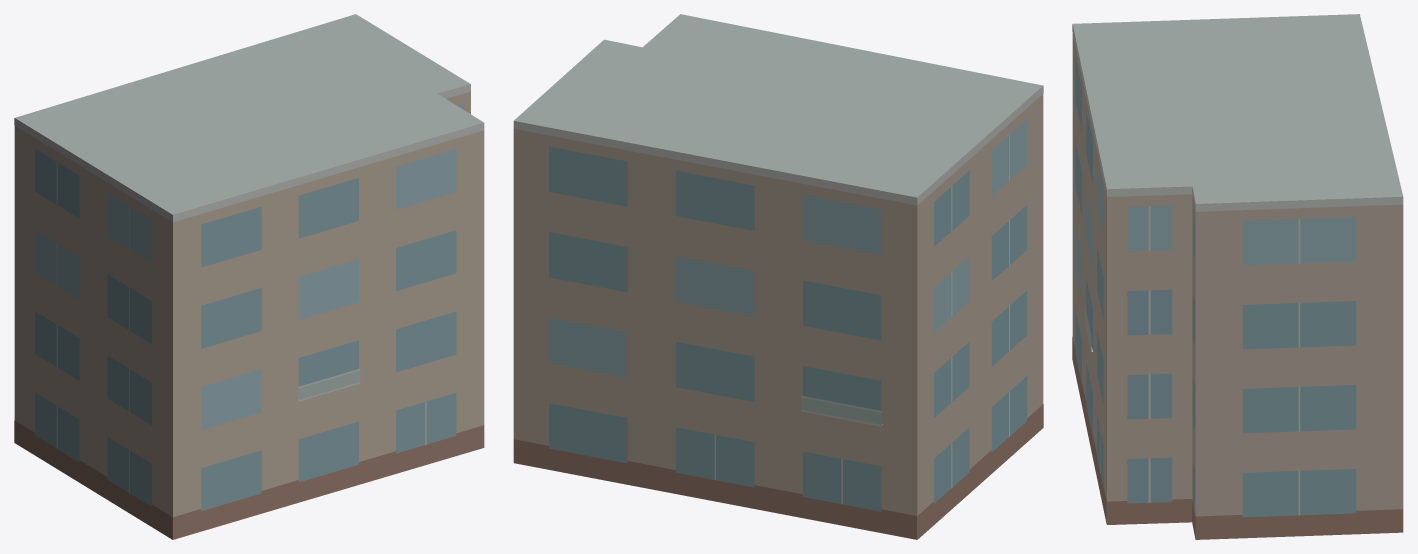
File: survey-upis-32659359.glb
The picture shows the model from 3 angles, left to right: view 1: azimuth 30°, elevation 25°; view 2: azimuth 150°, elevation 25°; view 3: azimuth 270°, elevation 25°; orthographic projection. The views are drawn at different scales.
Visible parts, largest first — view 1: survey-upis-32659359.tmp; view 2: survey-upis-32659359.tmp; view 3: survey-upis-32659359.tmp.
Part boxes in pixels (x1,y1,x2,y2): survey-upis-32659359.tmp: (14, 14, 484, 539); survey-upis-32659359.tmp: (513, 14, 1043, 539); survey-upis-32659359.tmp: (1072, 14, 1403, 539).
Size of the model in its own units: 12.75 by 10.5 by 9.39.
